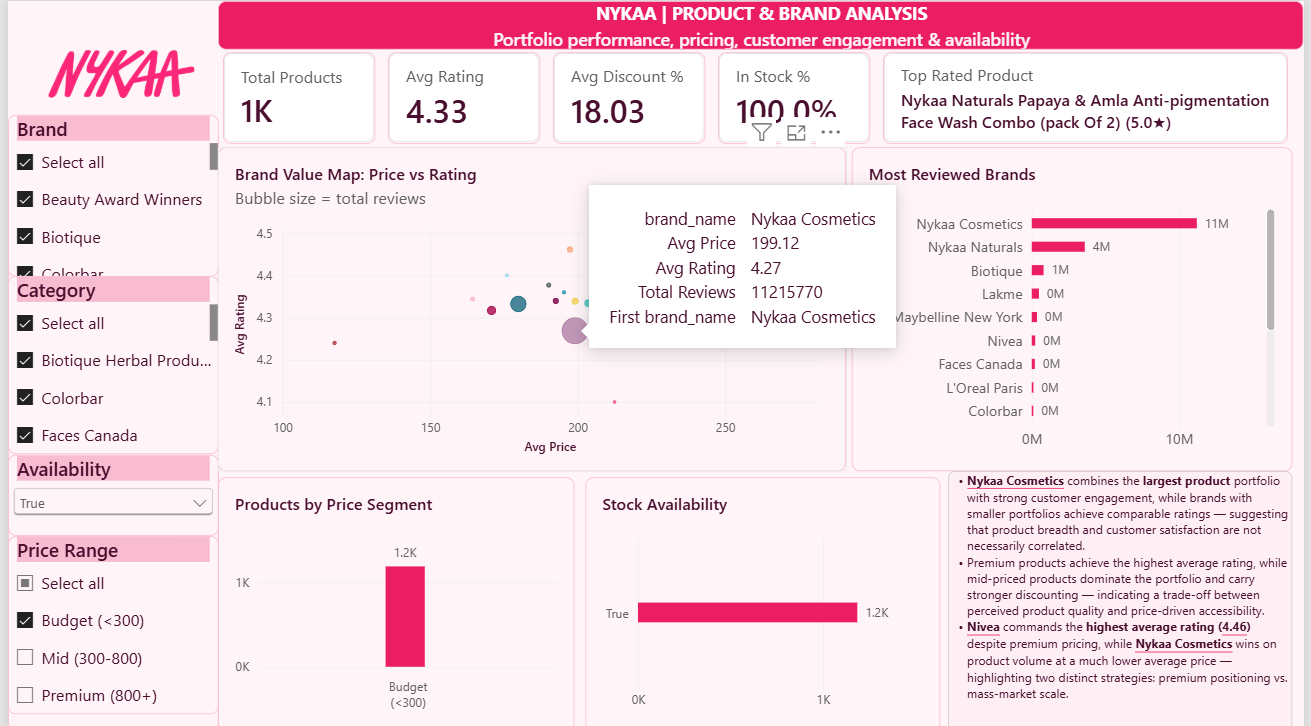

What the dashboard file says about the page in this screenshot:
{"tool":"powerbi","page":{"name":"Page 1","canvas":[1280,720],"ordinal":0},"visuals":[{"type":"shape","box":[0,128,208,592],"z":0},{"type":"slicer","fields":{"Values":["nykaa_cleaned.brand_name"]},"box":[0,112,208,160],"z":1000},{"type":"slicer","fields":{"Values":["nykaa_cleaned.listing_page_name"]},"box":[0,272,208,176],"z":2000},{"type":"slicer","fields":{"Values":["nykaa_cleaned.in_stock"]},"box":[0,448,208,80],"z":3000},{"type":"slicer","fields":{"Values":["nykaa_cleaned.price_band"]},"box":[0,528,208,176],"z":4000},{"type":"cardVisual","fields":{"Data":["nykaa_cleaned.Total Products"]},"box":[212,50,150,90],"z":5000},{"type":"cardVisual","fields":{"Data":["nykaa_cleaned.Avg Rating"]},"box":[375,50,150,90],"z":6000},{"type":"cardVisual","fields":{"Data":["nykaa_cleaned.Avg Discount %"]},"box":[538,50,150,90],"z":7000},{"type":"cardVisual","fields":{"Data":["nykaa_cleaned.In Stock %"]},"box":[701,50,150,90],"z":8000},{"type":"cardVisual","fields":{"Data":["nykaa_cleaned.Top Rated Product"]},"box":[864,50,400,90],"z":9000},{"type":"scatterChart","title":"Brand Value Map: Price vs Rating","fields":{"Series":["nykaa_cleaned.brand_name"],"Size":["nykaa_cleaned.Total Reviews"],"X":["nykaa_cleaned.Avg Price"],"Y":["nykaa_cleaned.Avg Rating"]},"box":[208,144,620,320],"z":10000},{"type":"clusteredBarChart","title":"Most Reviewed Brands","fields":{"Category":["nykaa_cleaned.brand_name"],"Y":["nykaa_cleaned.Total Reviews"]},"box":[833,144,435,320],"z":11000},{"type":"clusteredColumnChart","title":"Products by Price Segment","fields":{"Category":["nykaa_cleaned.price_band"],"Y":["CountNonNull(nykaa_cleaned.product_id)"]},"box":[208,470,352,250],"z":12000},{"type":"clusteredBarChart","title":"Stock Availability","fields":{"Category":["nykaa_cleaned.in_stock"],"Y":["CountNonNull(nykaa_cleaned.product_id)"]},"box":[570,470,350,250],"z":13000},{"type":"textbox","box":[928,464,340,256],"z":14000},{"type":"textbox","title":"NYKAA | PRODUCT & BRAND ANALYSIS","box":[208,0,1072,48],"z":15000},{"type":"image","box":[0,0,224,144],"z":16000}]}

Visuals, with their boxes in screenshot pixels (x1, y1, x2, y2), scaled from the page's 1280x720 canvas onto the 1311x726 screenshot:
shape: x1=0 y1=129 x2=213 y2=725
slicer - nykaa_cleaned.brand_name: x1=0 y1=113 x2=213 y2=274
slicer - nykaa_cleaned.listing_page_name: x1=0 y1=274 x2=213 y2=452
slicer - nykaa_cleaned.in_stock: x1=0 y1=452 x2=213 y2=532
slicer - nykaa_cleaned.price_band: x1=0 y1=532 x2=213 y2=710
cardVisual - nykaa_cleaned.Total Products: x1=217 y1=50 x2=371 y2=141
cardVisual - nykaa_cleaned.Avg Rating: x1=384 y1=50 x2=538 y2=141
cardVisual - nykaa_cleaned.Avg Discount %: x1=551 y1=50 x2=705 y2=141
cardVisual - nykaa_cleaned.In Stock %: x1=718 y1=50 x2=872 y2=141
cardVisual - nykaa_cleaned.Top Rated Product: x1=885 y1=50 x2=1295 y2=141
"Brand Value Map: Price vs Rating" scatterChart: x1=213 y1=145 x2=848 y2=468
"Most Reviewed Brands" clusteredBarChart: x1=853 y1=145 x2=1299 y2=468
"Products by Price Segment" clusteredColumnChart: x1=213 y1=474 x2=574 y2=725
"Stock Availability" clusteredBarChart: x1=584 y1=474 x2=942 y2=725
textbox: x1=950 y1=468 x2=1299 y2=725
"NYKAA | PRODUCT & BRAND ANALYSIS" textbox: x1=213 y1=0 x2=1310 y2=48
image: x1=0 y1=0 x2=229 y2=145
